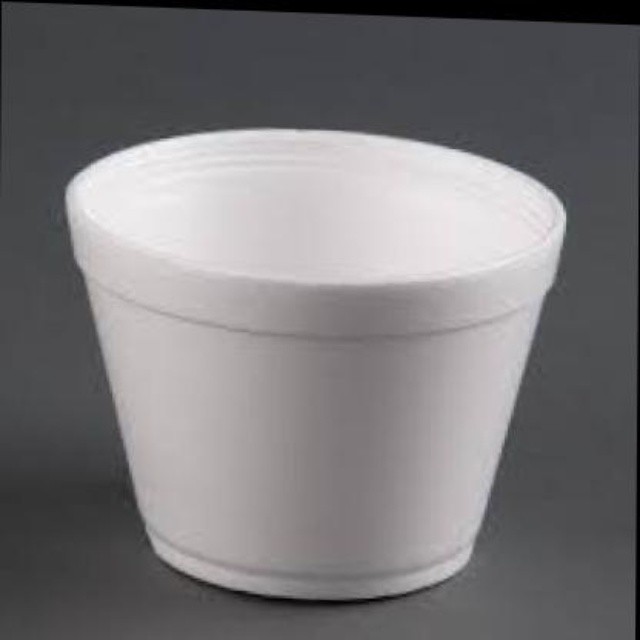trash: (66, 129, 563, 598)
